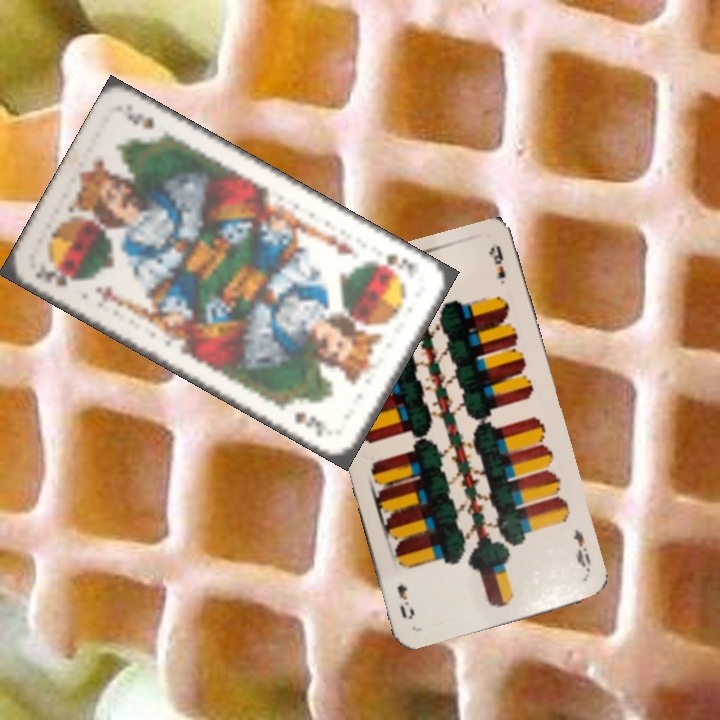E9: (569, 525, 594, 575)
SK: (30, 260, 80, 291), (369, 249, 417, 280)
